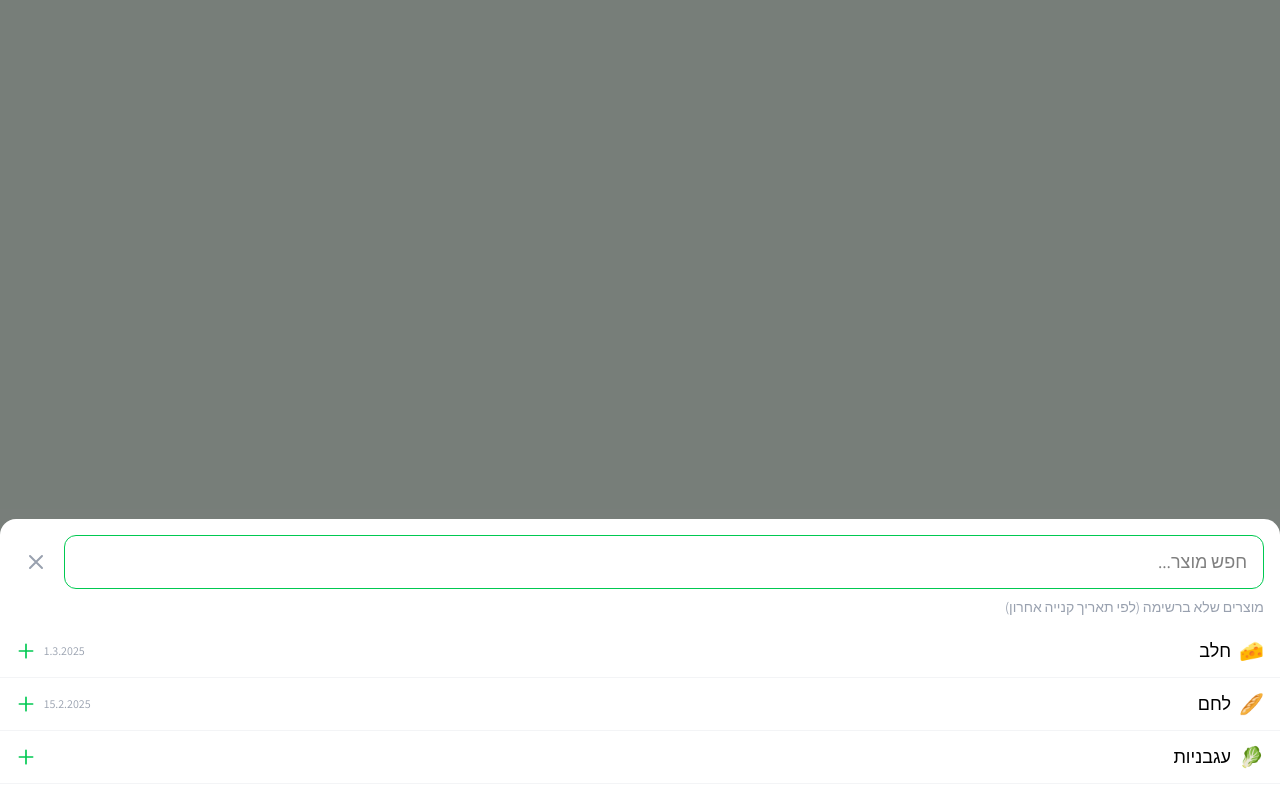
Test case: AddItemInput › shows add button for new uncatalogued items
Check: the text "חלב" is shown, box [1199,639,1231,662]
In the field with placeholder "חפש מוצר...": (664, 562) [64,535,1264,589], type "מוצר חדש"
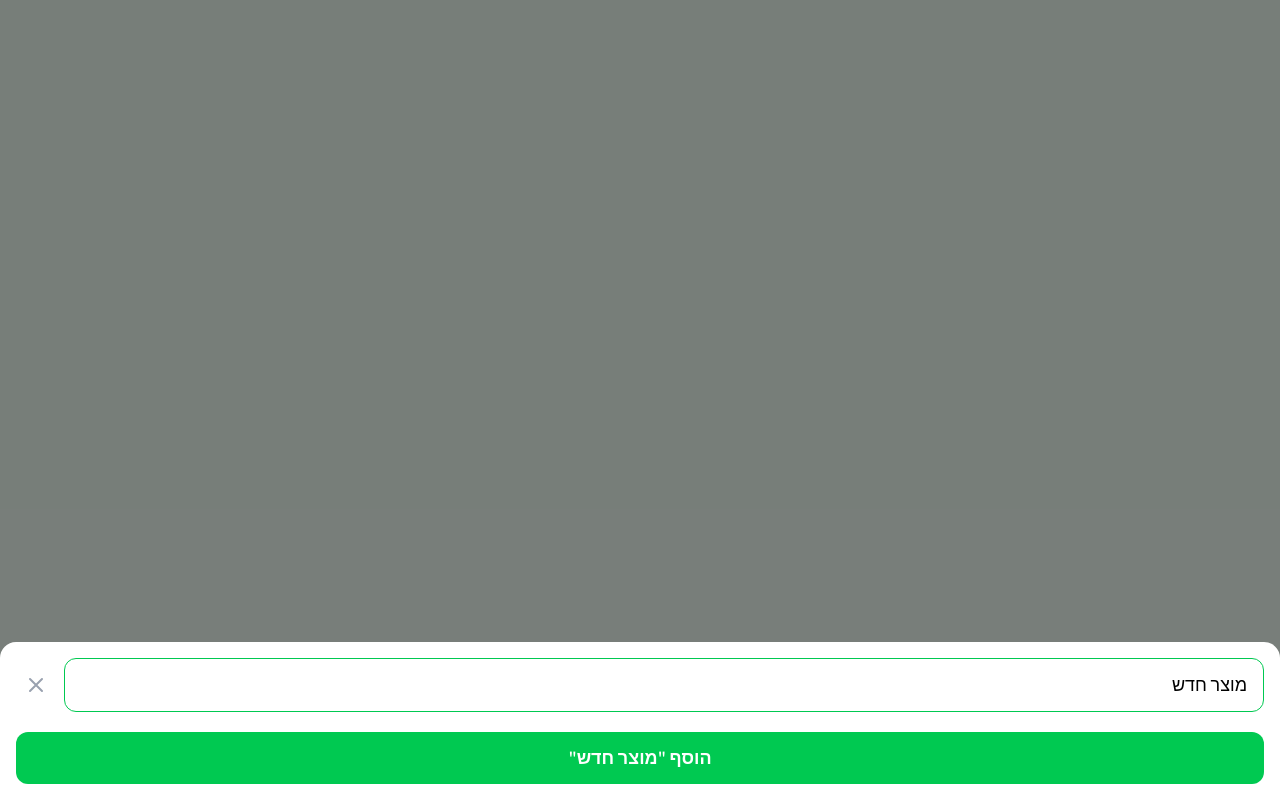
Check: the button "הוסף \"מוצר חדש\"" is shown, box [16,732,1264,784]
